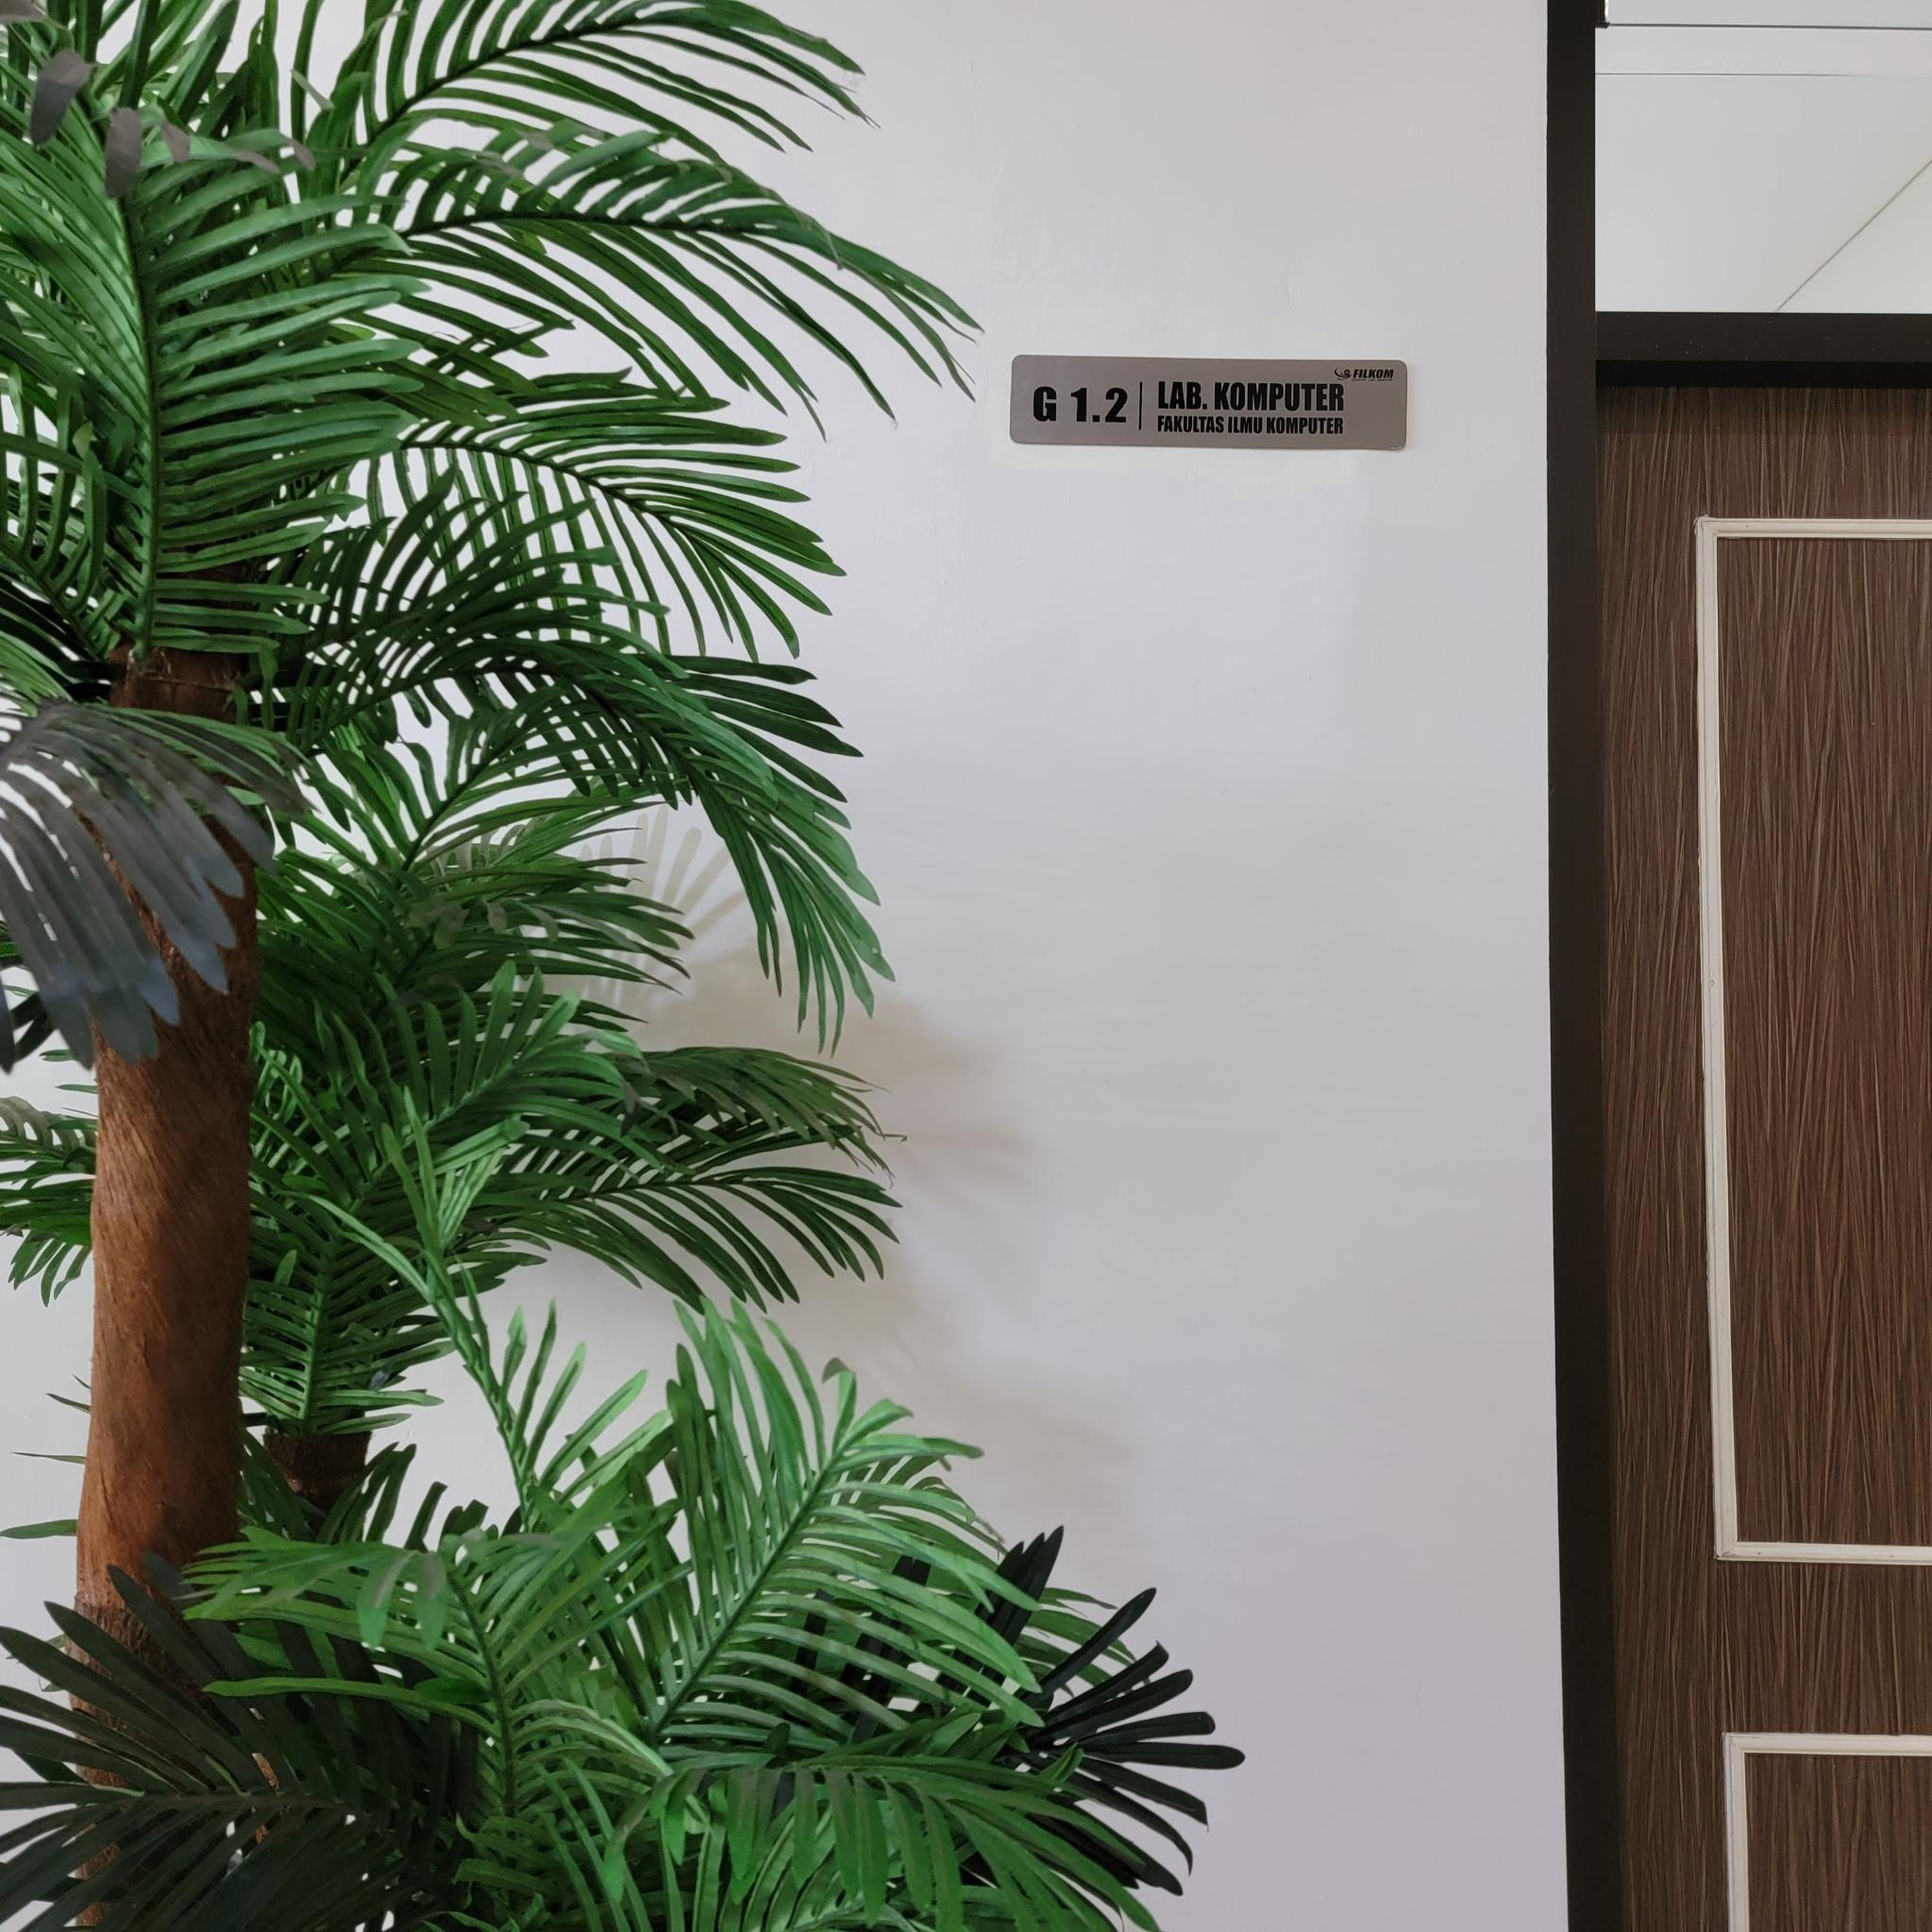plate: (1010, 354, 1407, 449)
